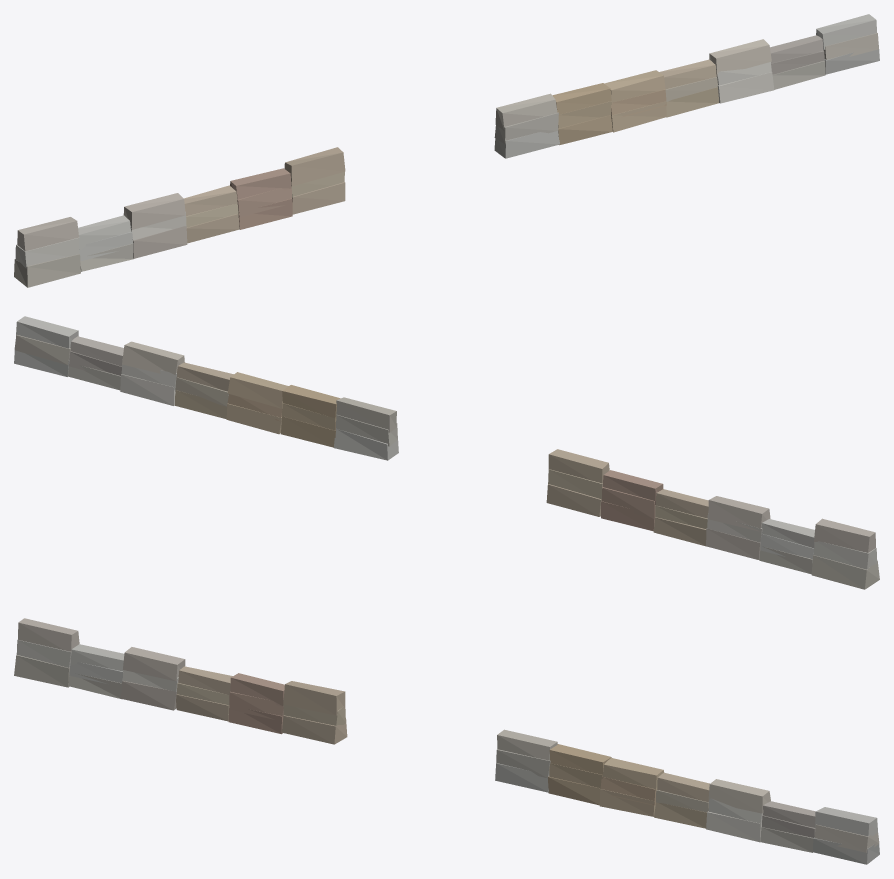
File: farm_-31_-23_mid.glb
The picture shows the model from 3 angles, top to bottom: view 1: azimuth 30°, elevation 25°; view 2: azimuth 150°, elevation 25°; view 3: azimuth 330°, elevation 25°; orthographic projection.
Visible parts, largest first — view 1: geometry_0; view 2: geometry_0; view 3: geometry_0.
Part boxes in pixels (<box>): geometry_0: <box>14,14,879,287</box>; geometry_0: <box>14,316,879,589</box>; geometry_0: <box>14,618,879,864</box>.
Bounding box in the file's own units: 25.57 × 1.71 × 0.7708.
